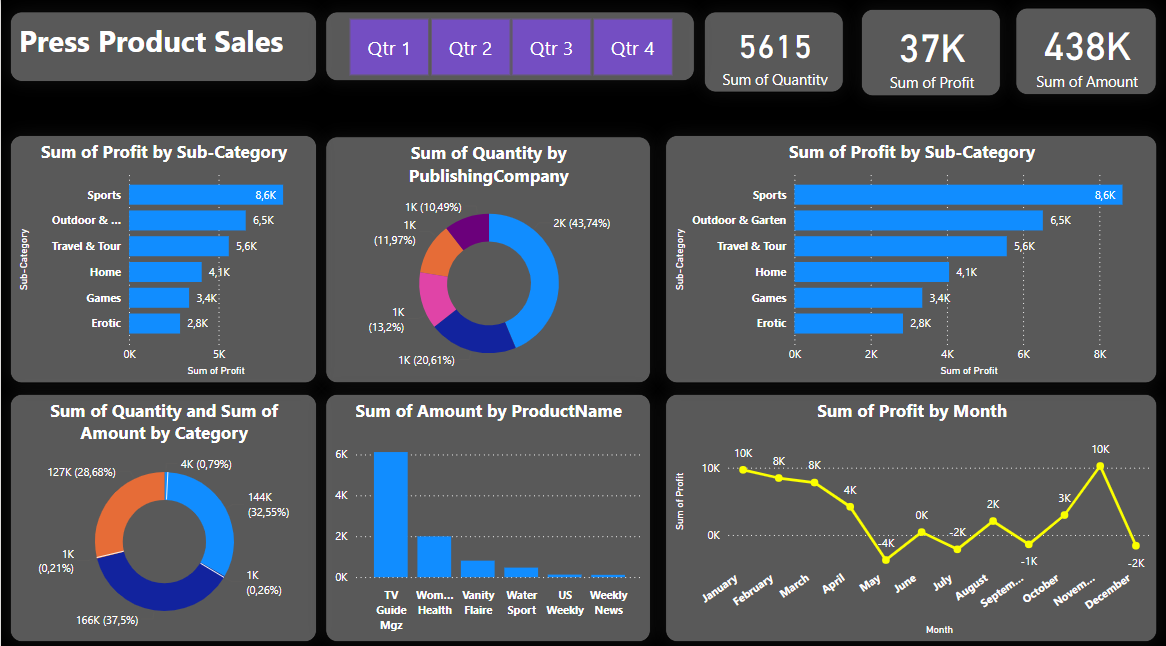

Layout of this report page (visuals, bound fields, positions):
{"tool":"powerbi","page":{"name":"Page 1","canvas":[1280,720],"ordinal":0},"visuals":[{"type":"textbox","box":[9.4,12.1,336.3,76.7],"z":0},{"type":"lineChart","fields":{"Category":["Orders.Order Date.Variation.Date Hierarchy.Month"],"Y":["Sum(Details.Profit)"]},"box":[727.7,431.8,539.4,271.7],"z":1000},{"type":"barChart","fields":{"Y":["Sum(Details.Profit)"],"Category":["Details.Sub-Category"]},"box":[727.7,148,539.4,271.7],"z":2000},{"type":"donutChart","fields":{"Y":["Sum(Details.Quantity)","Sum(Details.Amount)"],"Category":["Details.Category"]},"box":[9.4,431.8,336.3,271.7],"z":3000},{"type":"donutChart","fields":{"Y":["Sum(Details.Quantity)"],"Category":["Details.PaymentMode"]},"box":[355.1,149.3,356.5,270.4],"z":4000},{"type":"card","fields":{"Values":["Sum(Details.Amount)"]},"box":[1112.4,8.1,154.7,95.5],"z":5000},{"type":"card","fields":{"Values":["Sum(Details.Profit)"]},"box":[942.9,9.4,153.3,95.5],"z":6000},{"type":"card","fields":{"Values":["Sum(Details.Quantity)"]},"box":[770.7,12.1,153.3,88.8],"z":7000},{"type":"barChart","fields":{"Y":["Sum(Details.Profit)"],"Category":["Details.Sub-Category"]},"box":[9.4,148,336.3,271.7],"z":8000},{"type":"lineStackedColumnComboChart","fields":{"Category":["Orders.CustomerName"],"Y":["Sum(Details.Amount)"]},"box":[355.1,431.8,356.5,271.7],"z":9000},{"type":"slicer","fields":{"Values":["Orders.Order Date.Variation.Date Hierarchy.Quarter"]},"box":[355.6,12.7,405,76.2],"z":10000}]}

Visuals, with their boxes in screenshot pixels (x1, y1, x2, y2), scaled from the page's 1280x720 canvas onto the 1166x646 screenshot:
textbox: x1=9 y1=11 x2=315 y2=80
lineChart - Orders.Order Date.Variation.Date Hierarchy.Month x Sum(Details.Profit): x1=663 y1=387 x2=1154 y2=631
barChart - Sum(Details.Profit) x Details.Sub-Category: x1=663 y1=133 x2=1154 y2=377
donutChart - Sum(Details.Quantity) x Sum(Details.Amount): x1=9 y1=387 x2=315 y2=631
donutChart - Sum(Details.Quantity) x Details.PaymentMode: x1=323 y1=134 x2=648 y2=377
card - Sum(Details.Amount): x1=1013 y1=7 x2=1154 y2=93
card - Sum(Details.Profit): x1=859 y1=8 x2=999 y2=94
card - Sum(Details.Quantity): x1=702 y1=11 x2=842 y2=91
barChart - Sum(Details.Profit) x Details.Sub-Category: x1=9 y1=133 x2=315 y2=377
lineStackedColumnComboChart - Orders.CustomerName x Sum(Details.Amount): x1=323 y1=387 x2=648 y2=631
slicer - Orders.Order Date.Variation.Date Hierarchy.Quarter: x1=324 y1=11 x2=693 y2=80
